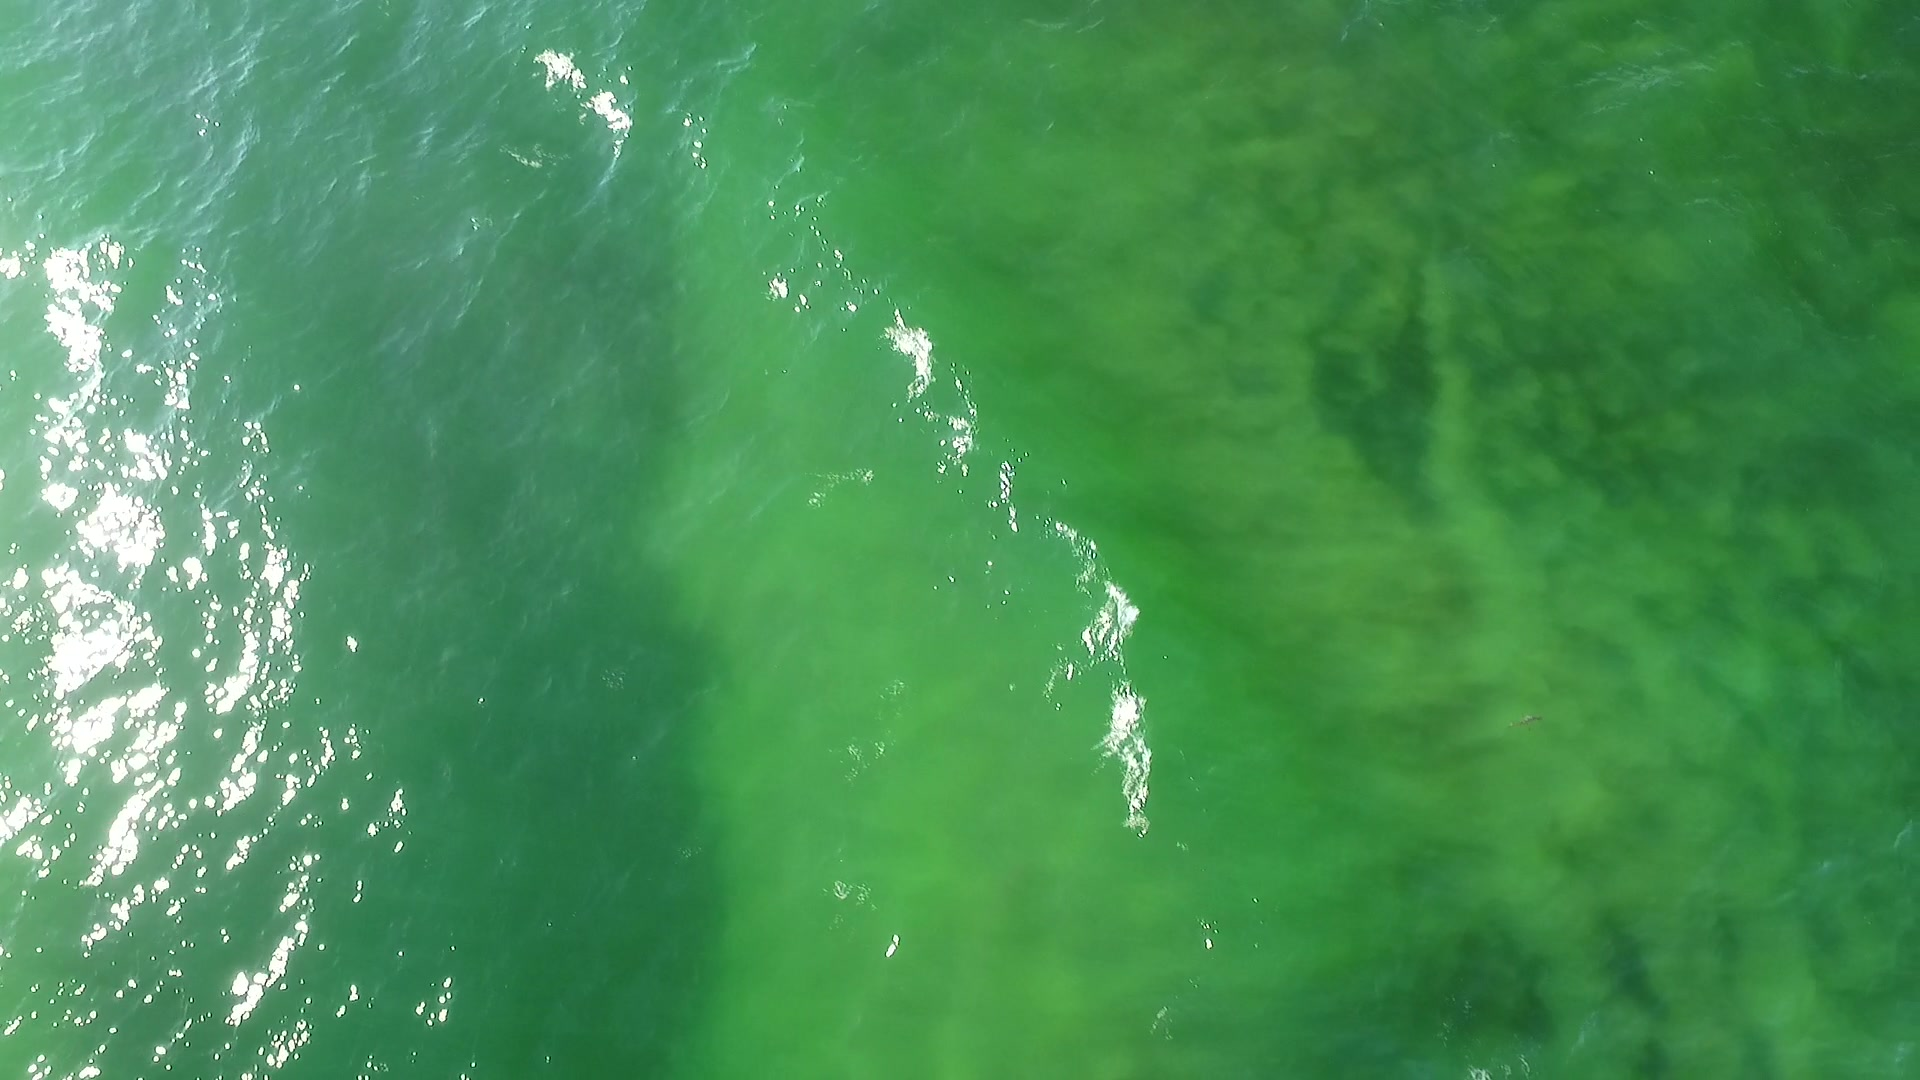shark: (1509, 708, 1549, 735)
